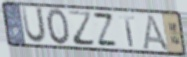A: (141, 13, 171, 52)
O: (45, 8, 71, 47)
T: (118, 14, 137, 48)
U: (19, 5, 48, 45)
Z: (66, 10, 97, 48), (91, 11, 119, 48)
